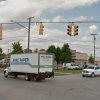Traffic light: (37, 18, 83, 42)
